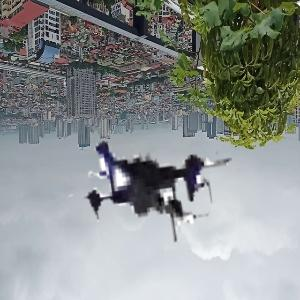drone: (38, 51, 248, 261)
